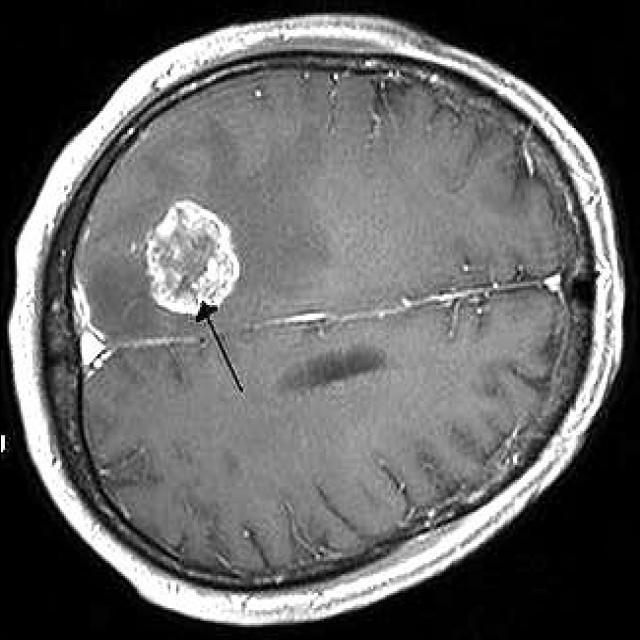tumor: (142, 198, 238, 326)
